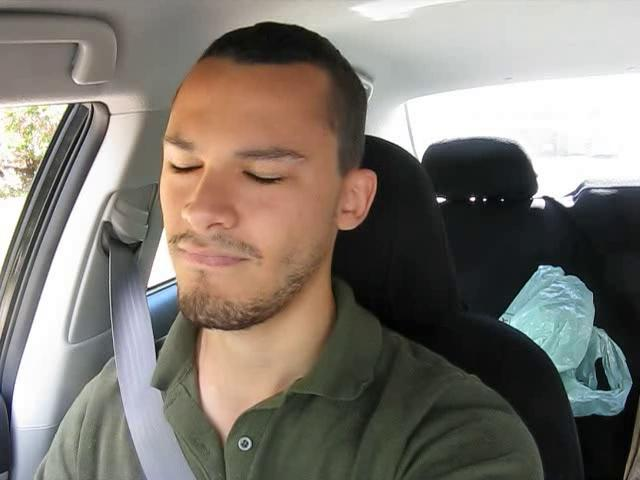close_eyeL: (160, 148, 209, 184)
close_eyeR: (228, 156, 300, 196)
no_yawn: (165, 234, 265, 278)
